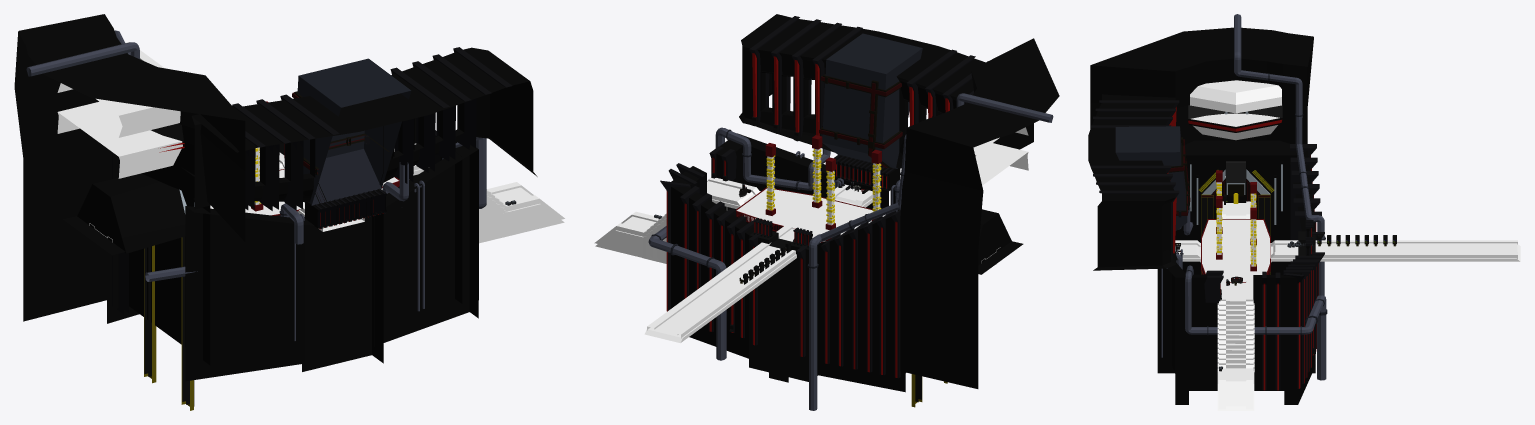
Rendered from CrazyDuckCasa.fbx.
3 renders of one model, left to right at view 1: azimuth 30°, elevation 25°; view 2: azimuth 150°, elevation 25°; view 3: azimuth 270°, elevation 25°, orthographic. The views are drawn at different scales.
Parts seen in each view (by area): view 1: Wall2, Wall1, Wall3, WallBlock1, Cabine.001, Tubes, Frame, LightWall, P_Bot6, P_Top6, UnderStairs; view 2: Wall2, Wall1, Wall3, WallBlock1, Tubes, P_Top5, PlayableGround, LightWall, Cabine.001, P_Bot5, P_Bot6, P_Top4 (+4 smaller); view 3: Wall2, Wall1, Wall3, Tubes, Cabine.001, P_Top5, WallBlock1, PlayableGround, Stairs, Frame, P_Top6, P_Bot5 (+5 smaller).
Part boxes in pixels (<box>): Wall2: <box>63,118,478,381</box>; Wall1: <box>14,14,245,321</box>; Wall3: <box>191,47,537,210</box>; WallBlock1: <box>292,58,411,205</box>; Cabine.001: <box>57,83,182,178</box>; Tubes: <box>26,30,486,340</box>; Frame: <box>144,189,194,410</box>; LightWall: <box>304,188,386,229</box>; P_Bot6: <box>502,203,564,237</box>; P_Top6: <box>487,182,564,219</box>; UnderStairs: <box>479,194,507,243</box>; Wall2: <box>660,133,1023,392</box>; Wall1: <box>900,38,1059,388</box>; Wall3: <box>739,14,987,168</box>; WallBlock1: <box>819,33,922,168</box>; Tubes: <box>648,93,1053,410</box>; P_Top5: <box>647,242,795,338</box>; PlayableGround: <box>736,188,885,234</box>; LightWall: <box>753,154,900,247</box>; Cabine.001: <box>973,127,1028,185</box>; P_Bot5: <box>644,254,796,343</box>; P_Bot6: <box>595,230,642,257</box>; P_Top4: <box>708,180,759,221</box>; Wall2: <box>1157,140,1324,404</box>; Wall1: <box>1090,27,1313,144</box>; Wall3: <box>1088,94,1179,270</box>; Tubes: <box>1161,14,1327,380</box>; Cabine.001: <box>1190,80,1281,140</box>; P_Top5: <box>1315,240,1517,258</box>; WallBlock1: <box>1115,126,1190,230</box>; PlayableGround: <box>1202,220,1269,281</box>; Stairs: <box>1219,293,1253,370</box>; Frame: <box>1201,161,1270,274</box>; P_Top6: <box>1218,366,1253,409</box>; P_Bot5: <box>1320,244,1520,261</box>.
Size of the model in its own units: 135 by 88.16 by 128.
